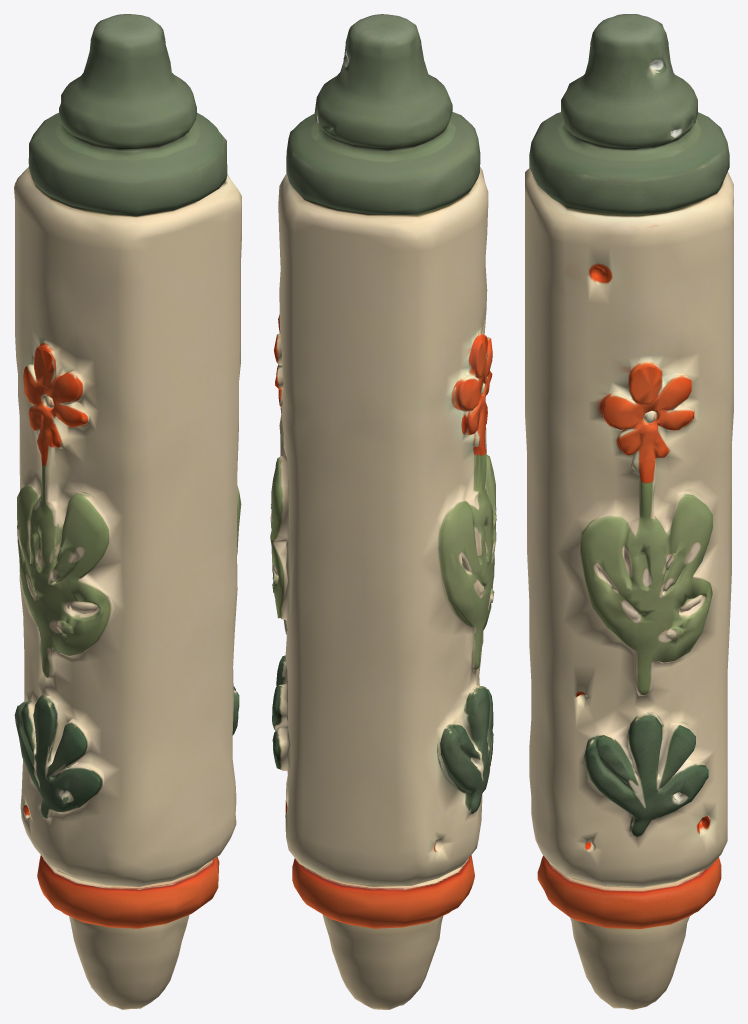
Rendered from marker.glb.
The picture shows the model from 3 angles, left to right: view 1: azimuth 30°, elevation 25°; view 2: azimuth 150°, elevation 25°; view 3: azimuth 270°, elevation 25°; orthographic projection.
Parts seen in each view (by area): view 1: tripo_node_8d1a2667-995a-4836-9b84-5b51d16cc22c; view 2: tripo_node_8d1a2667-995a-4836-9b84-5b51d16cc22c; view 3: tripo_node_8d1a2667-995a-4836-9b84-5b51d16cc22c.
Part boxes in pixels (x1,y1,x2,y2): tripo_node_8d1a2667-995a-4836-9b84-5b51d16cc22c: (14,14,241,1009); tripo_node_8d1a2667-995a-4836-9b84-5b51d16cc22c: (270,14,496,1009); tripo_node_8d1a2667-995a-4836-9b84-5b51d16cc22c: (525,14,733,1009).
Bounding box in the file's own units: 0.0377 × 0.18 × 0.0349.
Materials: 1 (1 with a texture image).
